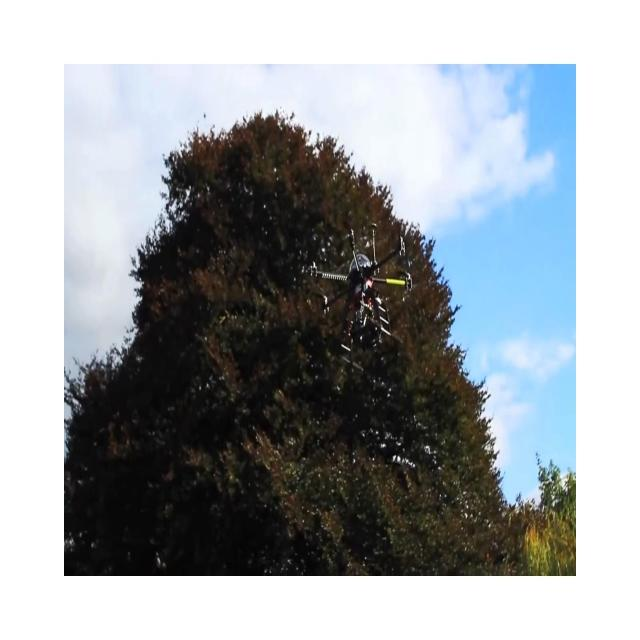drone: (308, 222, 412, 372)
